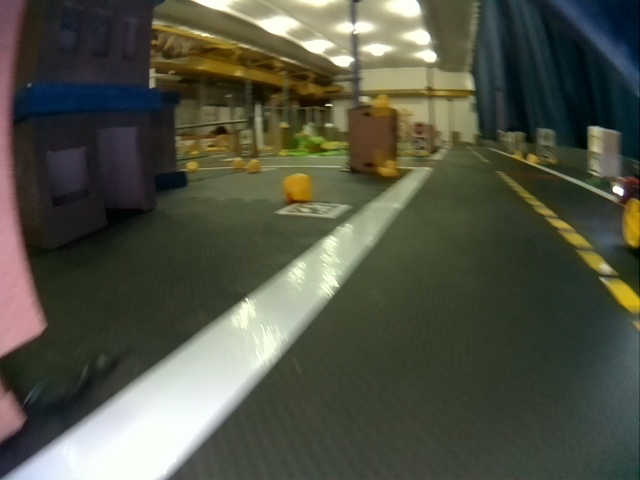Duckie: (283, 173, 314, 200), (378, 160, 398, 177), (373, 95, 388, 107), (230, 157, 242, 167), (186, 161, 196, 170)
Duckiebot: (613, 175, 639, 248)
QR code: (277, 204, 352, 217)
